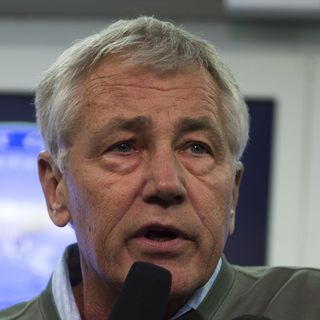eye: (99, 134, 146, 160), (176, 136, 220, 161)
